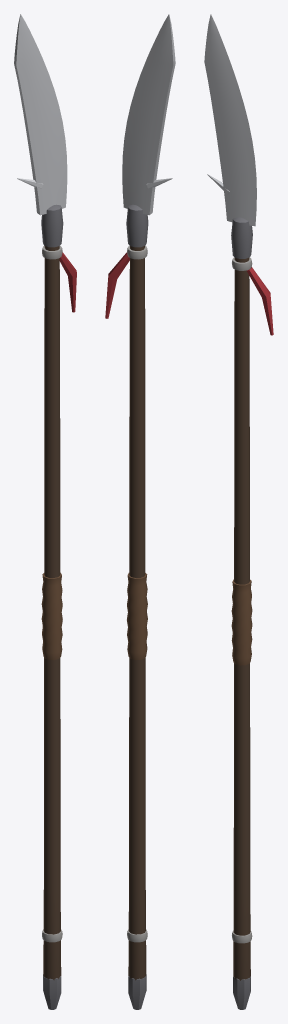
The model's file is watchmans_halberd.glb.
3 views of the same model, side by side, from view 1: azimuth 30°, elevation 25°; view 2: azimuth 150°, elevation 25°; view 3: azimuth 330°, elevation 25° (orthographic).
Parts seen in each view (by area): view 1: watchmans_halberd; view 2: watchmans_halberd; view 3: watchmans_halberd.
Boxes of the visible parts, left/top/right/bottom form: watchmans_halberd: left=14, top=14, right=76, bottom=1009; watchmans_halberd: left=105, top=14, right=175, bottom=1009; watchmans_halberd: left=204, top=14, right=273, bottom=1009.
Bounding box in the file's own units: 0.1655 × 2.45 × 0.047.
